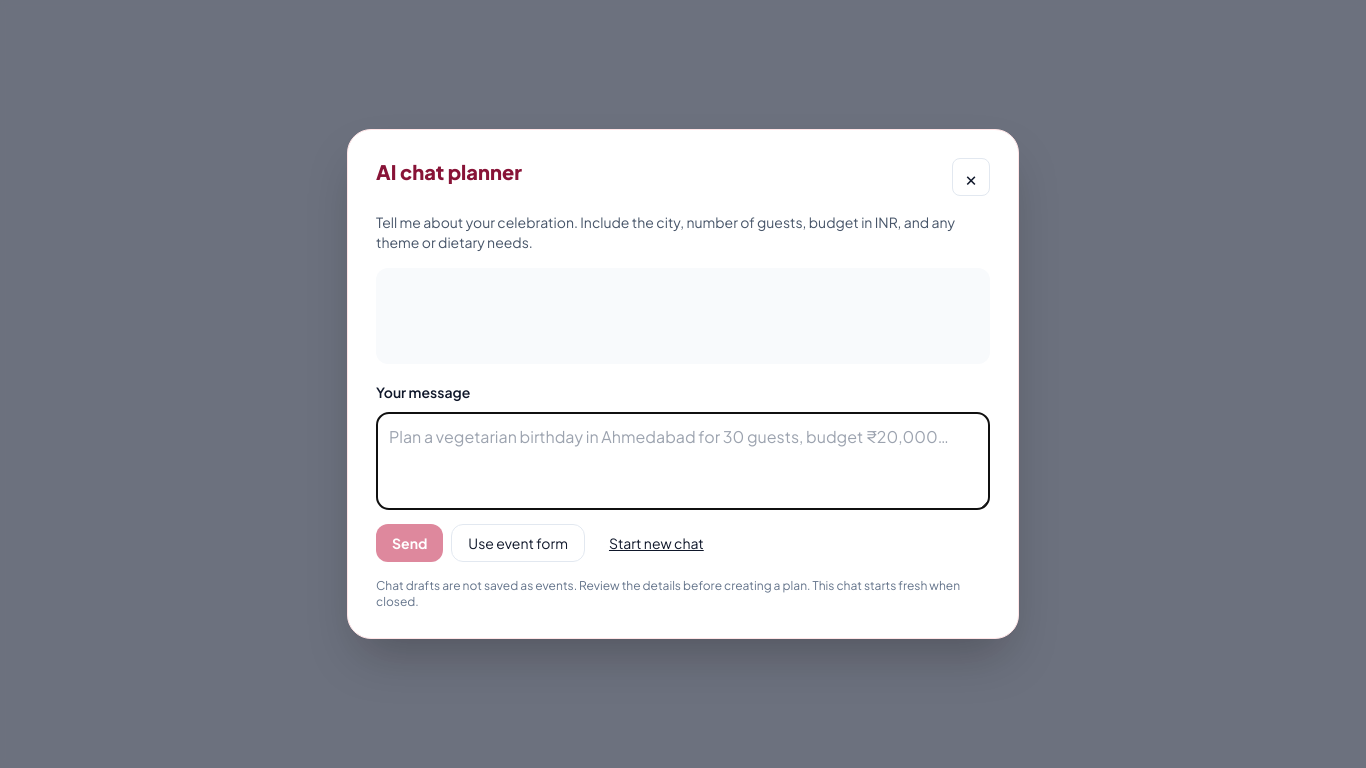
keeps the message for retry when the provider fails
The width and height of the screenshot is (1366, 768).
Replace the text in the text box labelled "Your message" with "A birthday please" at (683, 461), box [376,412,990,510]
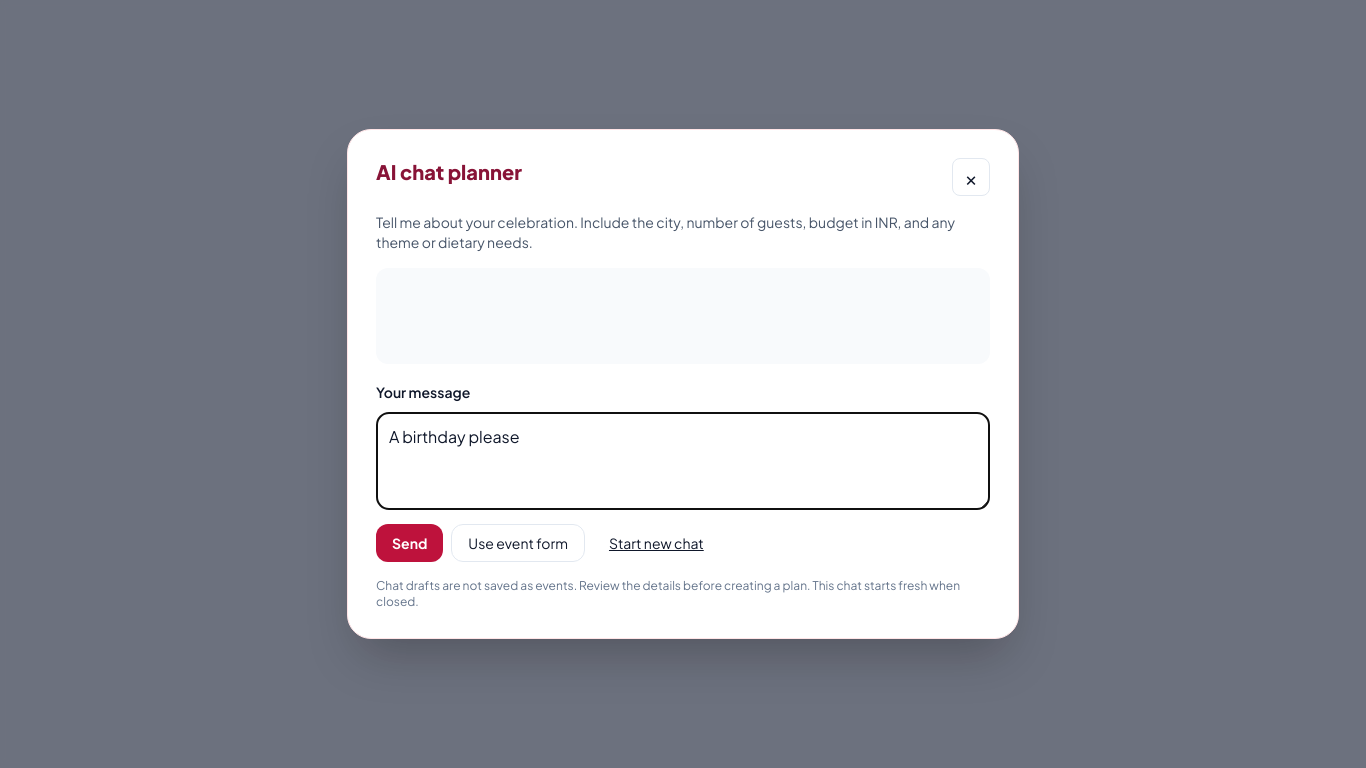
Click the button "Send".
click(410, 543)  # box [376,524,443,562]
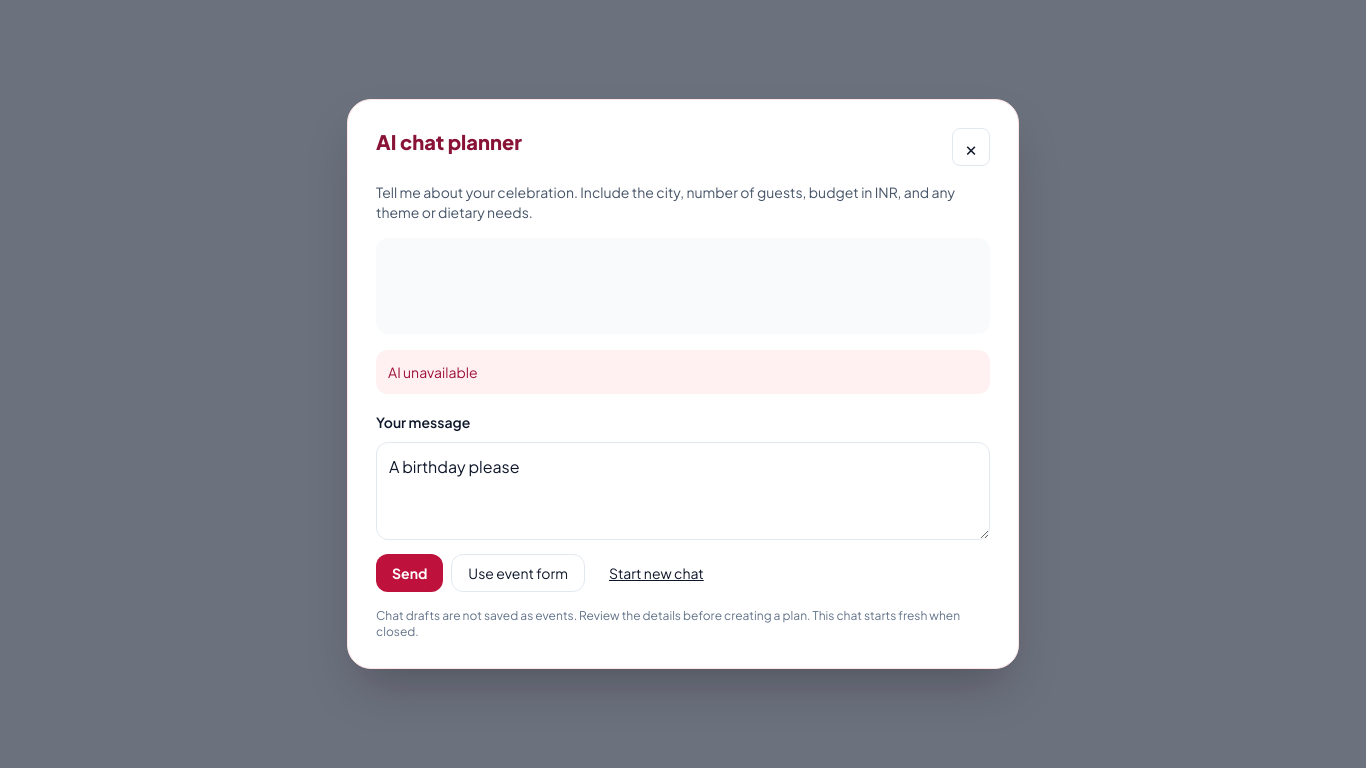
Expected: the message reads "AI unavailable", [388,363,478,381]
